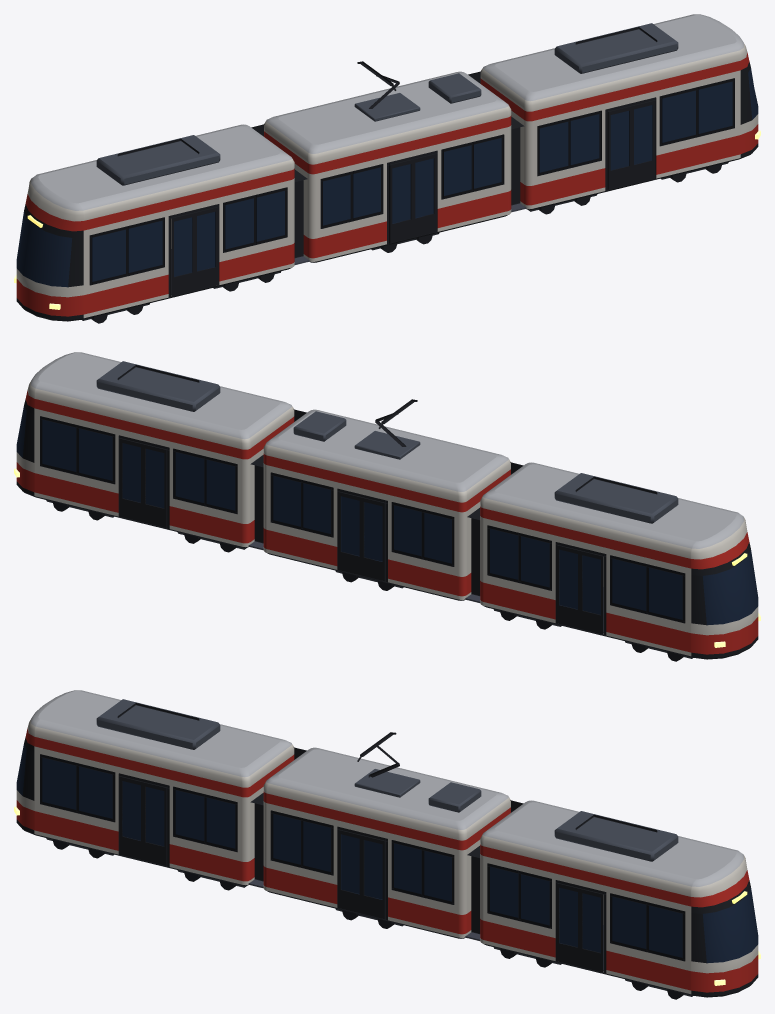
The model's file is tram.glb.
3 renders of one model, top to bottom at view 1: azimuth 30°, elevation 25°; view 2: azimuth 150°, elevation 25°; view 3: azimuth 330°, elevation 25°, orthographic.
Parts seen in each view (by area): view 1: roof, body, door_right_1_aft, door_right_2_aft, door_right_1_fore, door_right_0_fore, door_right_0_aft, door_right_2_fore; view 2: roof, body, door_left_1_aft, door_left_2_aft, door_left_1_fore, door_left_0_fore, door_left_0_aft, door_left_2_fore; view 3: roof, body, door_right_1_fore, door_right_0_fore, door_right_1_aft, door_right_2_aft, door_right_2_fore, door_right_0_aft.
Boxes of the visible parts, <box> form: roof: <box>24,14,750,237</box>; body: <box>14,67,760,323</box>; door_right_1_aft: <box>389,159,413,243</box>; door_right_2_aft: <box>171,212,194,296</box>; door_right_1_fore: <box>413,153,436,237</box>; door_right_0_fore: <box>631,100,654,184</box>; door_right_0_aft: <box>608,106,631,189</box>; door_right_2_fore: <box>194,207,217,290</box>; roof: <box>24,352,750,575</box>; body: <box>14,405,760,661</box>; door_left_1_aft: <box>361,497,385,581</box>; door_left_2_aft: <box>580,550,603,634</box>; door_left_1_fore: <box>338,491,361,575</box>; door_left_0_fore: <box>120,438,143,522</box>; door_left_0_aft: <box>143,444,166,527</box>; door_left_2_fore: <box>557,545,580,628</box>; roof: <box>24,690,750,913</box>; body: <box>14,743,760,999</box>; door_right_1_fore: <box>361,835,385,919</box>; door_right_0_fore: <box>580,888,603,972</box>; door_right_1_aft: <box>338,829,361,913</box>; door_right_2_aft: <box>120,776,143,860</box>; door_right_2_fore: <box>143,782,166,865</box>; door_right_0_aft: <box>557,883,580,966</box>.
Bounding box in the file's own units: 20.5 × 4.39 × 2.52.
